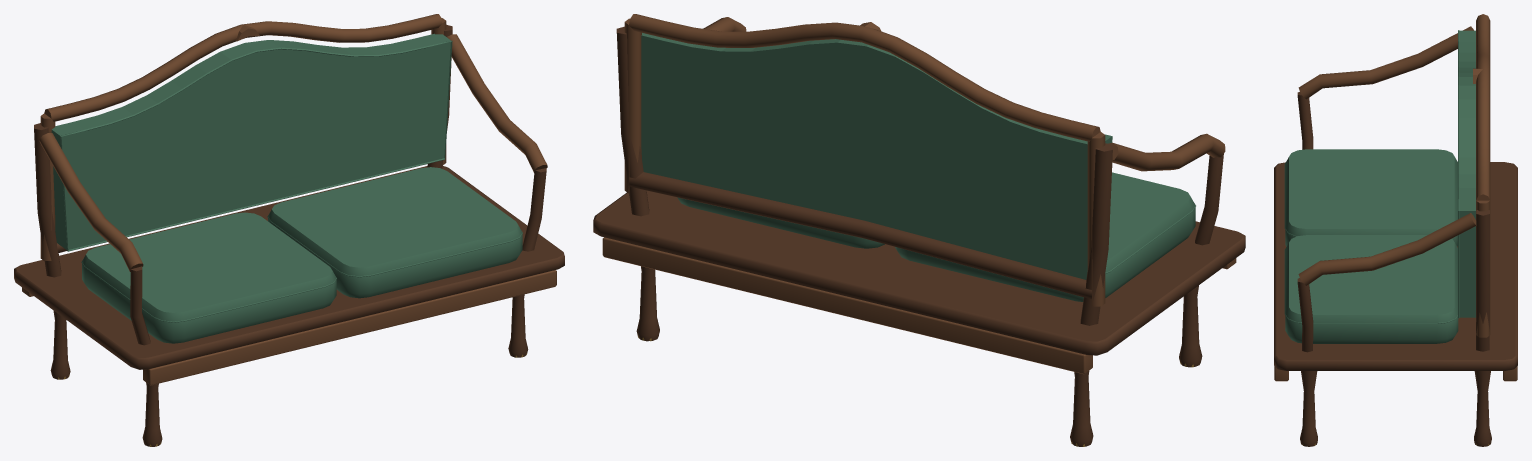
Rendered from rpg-mansion-camelback-settee-two-01.glb.
The picture shows the model from 3 angles, left to right: view 1: azimuth 30°, elevation 25°; view 2: azimuth 150°, elevation 25°; view 3: azimuth 270°, elevation 25°; orthographic projection. The views are drawn at different scales.
Parts seen in each view (by area): view 1: rpg-mansion-camelback-settee-two-01; view 2: rpg-mansion-camelback-settee-two-01; view 3: rpg-mansion-camelback-settee-two-01.
Part boxes in pixels (box(x1,y1,x2,y2)): rpg-mansion-camelback-settee-two-01: box(14, 14, 564, 446); rpg-mansion-camelback-settee-two-01: box(593, 14, 1245, 446); rpg-mansion-camelback-settee-two-01: box(1274, 14, 1517, 446).
Bounding box in the file's own units: 1.55 × 1.05 × 0.8.
